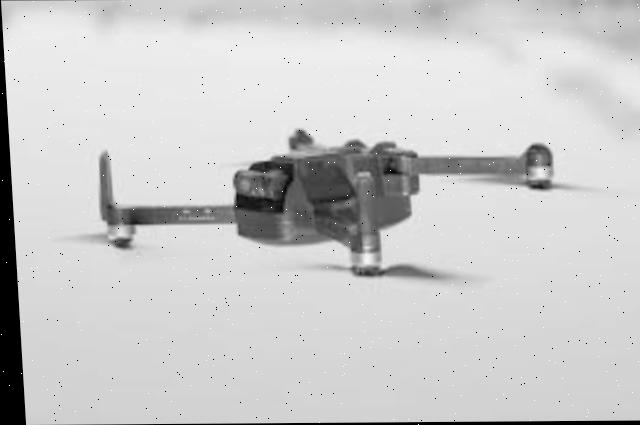drone: (48, 107, 623, 295)
